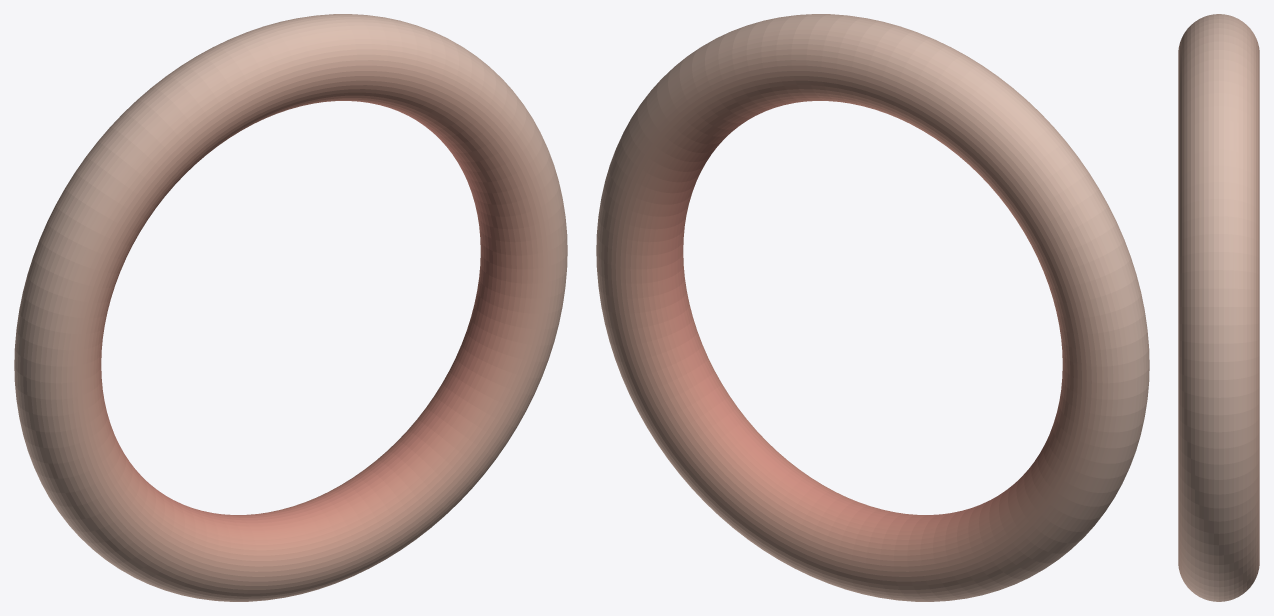
3 views of the same model, side by side, from view 1: azimuth 30°, elevation 25°; view 2: azimuth 150°, elevation 25°; view 3: azimuth 270°, elevation 25° (orthographic). The views are drawn at different scales.
Visible parts, largest first — view 1: world; view 2: world; view 3: world.
Part boxes in pixels (x1,y1,x2,y2): world: (14, 14, 567, 601); world: (596, 14, 1149, 601); world: (1178, 14, 1259, 601).
Bounding box in the file's own units: 20.13 × 20.13 × 2.79.
